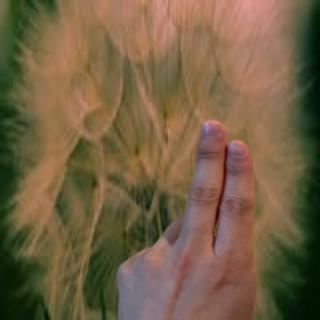DHAVE: (108, 113, 270, 320)
